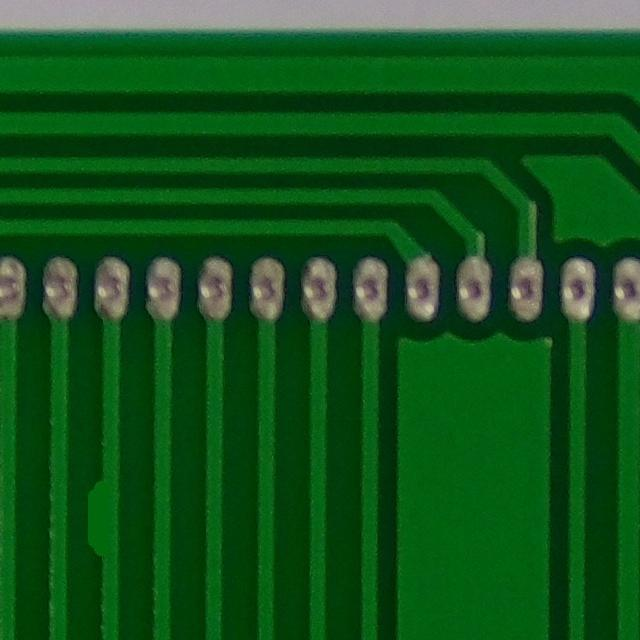spur: (67, 470, 129, 570)
